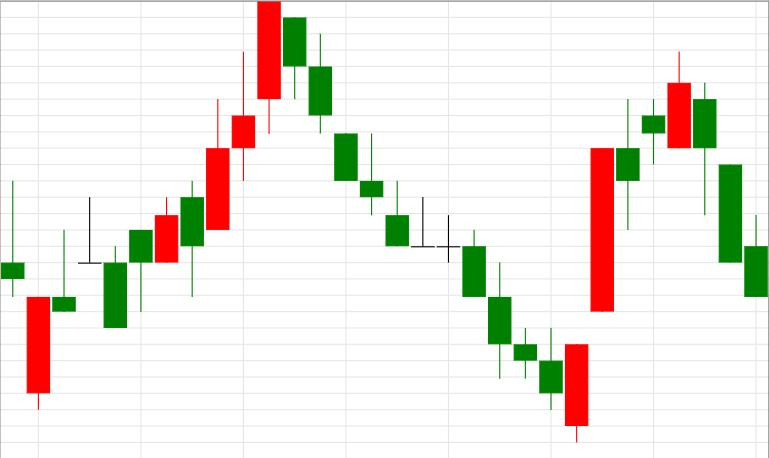inverse_hammer_rise: (284, 18, 563, 409)
three_black_crows_fall: (206, 1, 358, 231)
